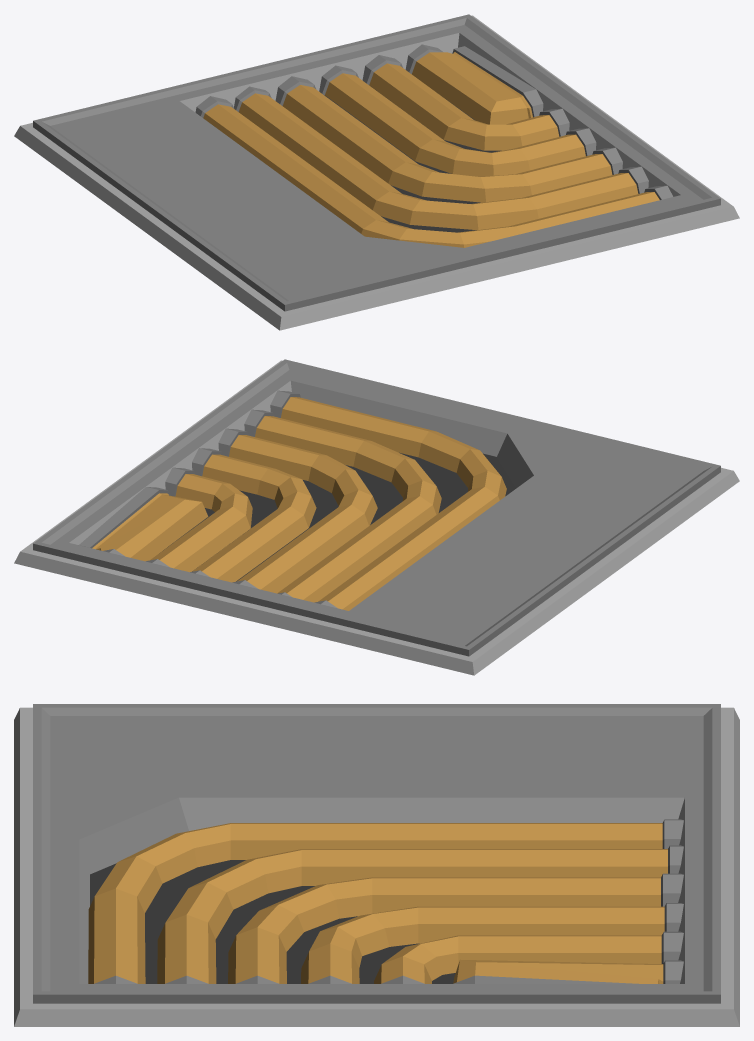
File: RoofTile_InnerCorner_Pipes.fbx
3 renders of one model, top to bottom at view 1: azimuth 30°, elevation 25°; view 2: azimuth 150°, elevation 25°; view 3: azimuth 270°, elevation 25°, orthographic. The views are drawn at different scales.
Parts seen in each view (by area): view 1: RoofTile_InnerCorner_Pipes; view 2: RoofTile_InnerCorner_Pipes; view 3: RoofTile_InnerCorner_Pipes.
Boxes of the visible parts, box(x1,y1,x2,y2) form: RoofTile_InnerCorner_Pipes: box(14, 14, 739, 330); RoofTile_InnerCorner_Pipes: box(14, 359, 739, 675); RoofTile_InnerCorner_Pipes: box(14, 704, 739, 1026).
Bounding box in the file's own units: 2 × 0.1147 × 2.
